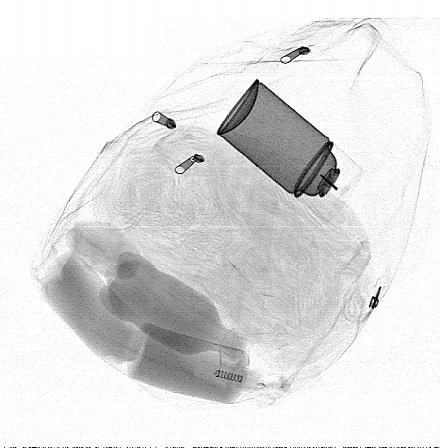Sprayer: (217, 78, 365, 224)
